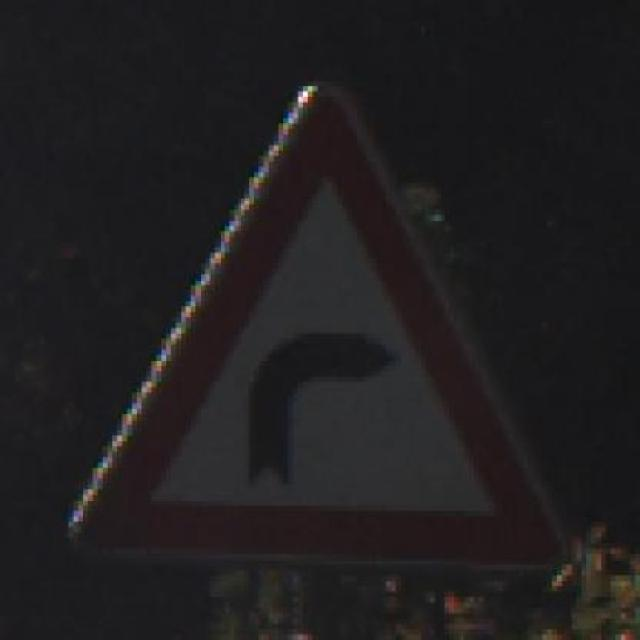Dangerous Rright Curve Ahead: (68, 69, 586, 597)
